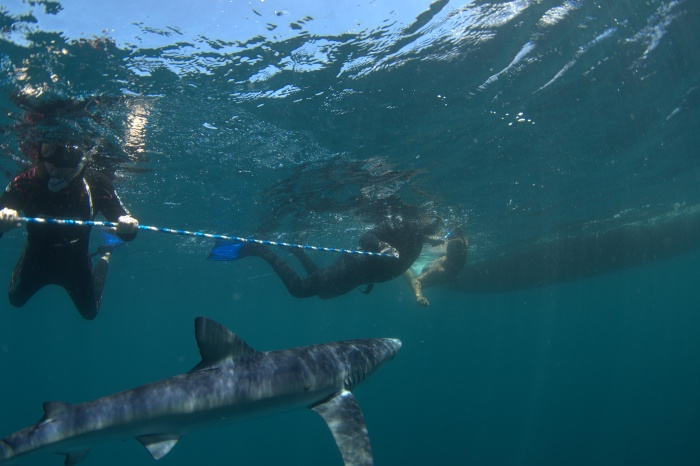Azul: (23, 296, 439, 466)
